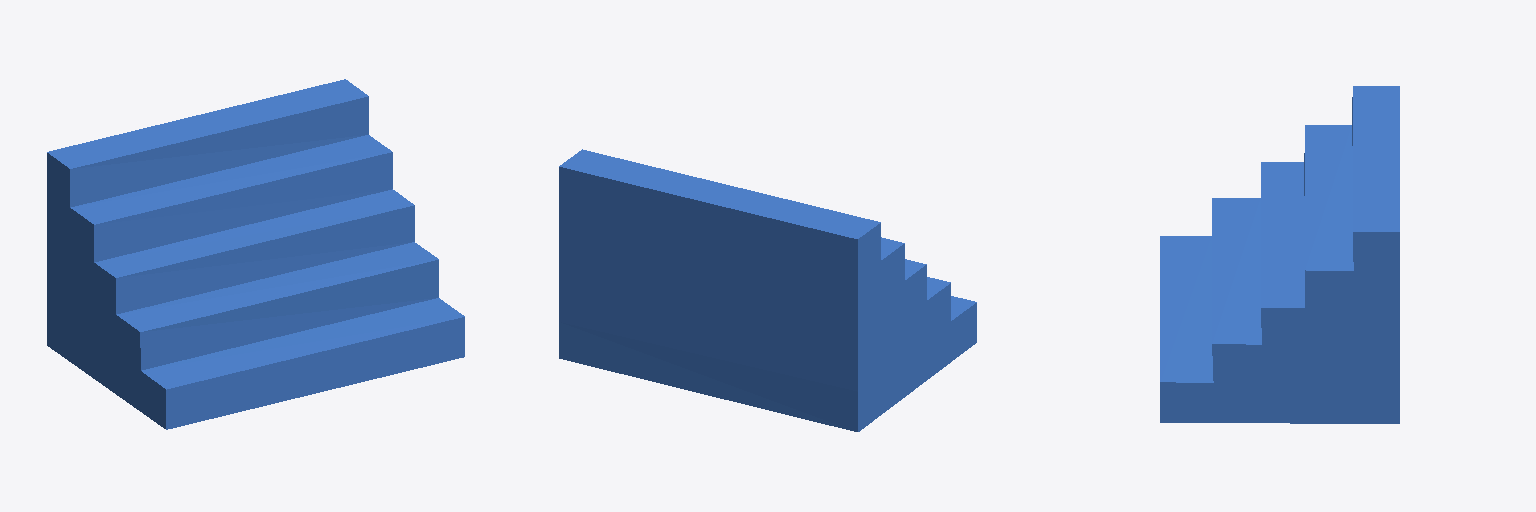
File: ladder.obj
The picture shows the model from 3 angles: view 1: azimuth 30°, elevation 25°; view 2: azimuth 150°, elevation 25°; view 3: azimuth 270°, elevation 25°; orthographic projection.
Visible parts, largest first — view 1: Plane001; view 2: Plane001; view 3: Plane001.
Part boxes in pixels (x1,y1,x2,y2): Plane001: (47,79,464,429); Plane001: (559,149,976,431); Plane001: (1160,86,1399,423).
Size of the model in its own units: 68.09 by 42.09 by 47.16.